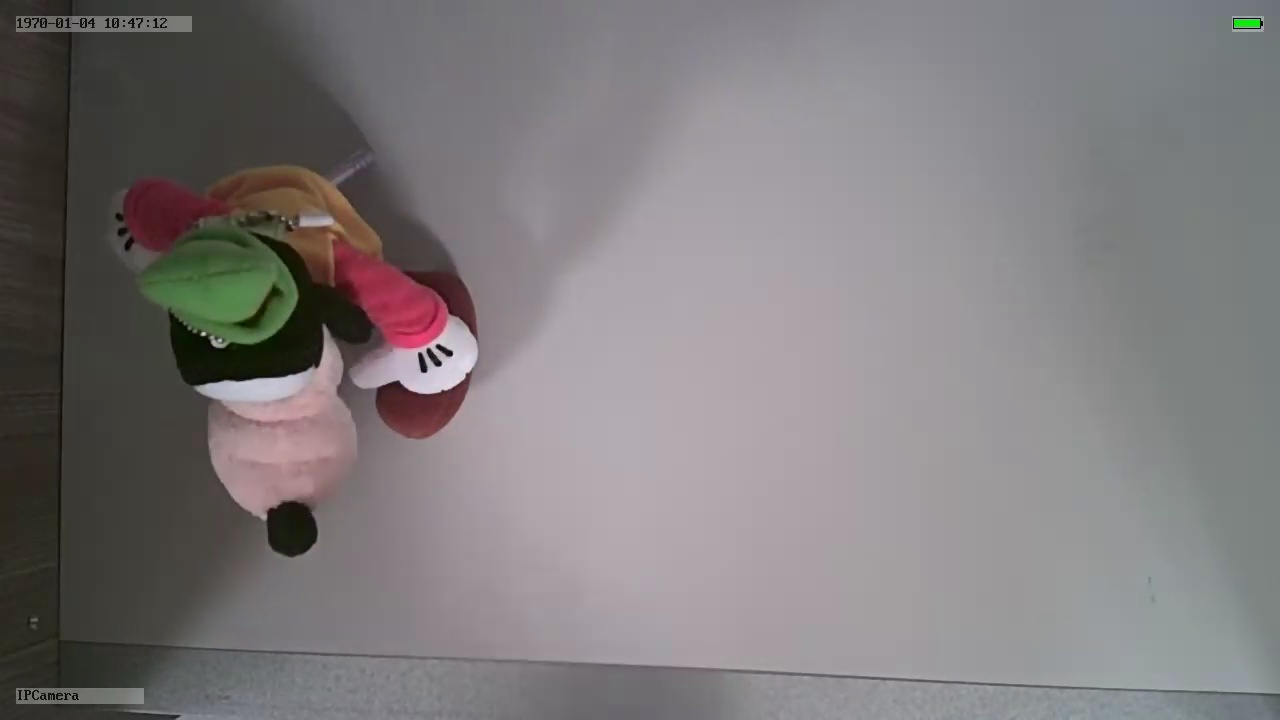goofy: (104, 159, 483, 559)
